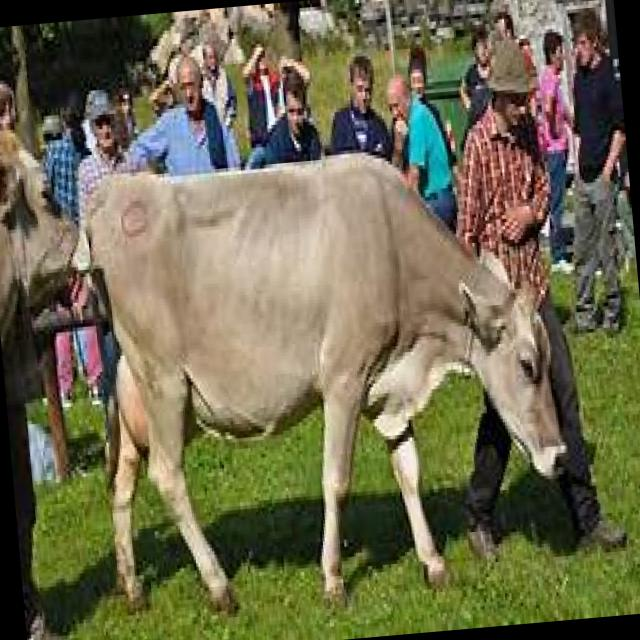animal: (72, 133, 577, 628)
